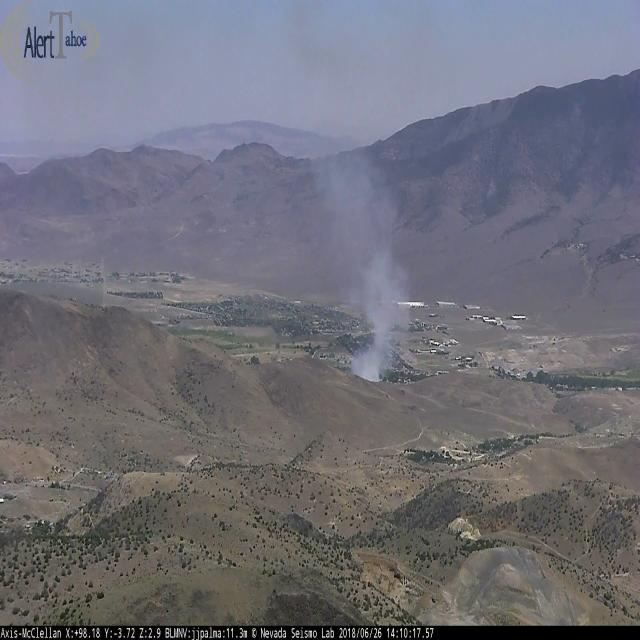smoke: (326, 154, 411, 384)
